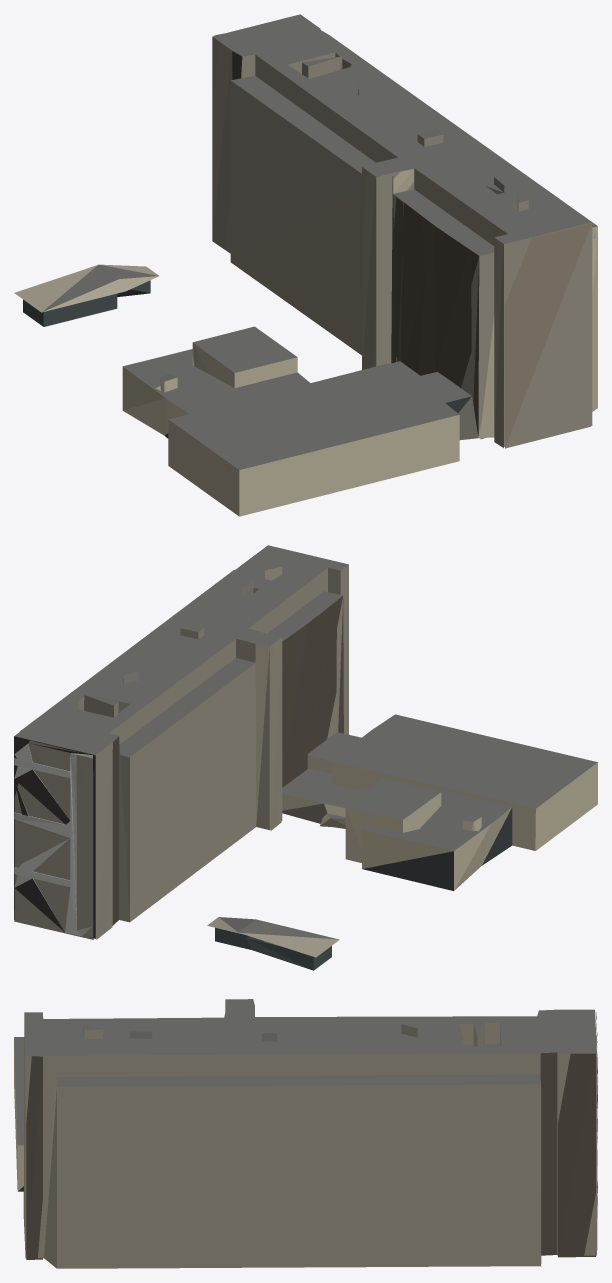
File: radion.lod2.glb
3 views of the same model, one above another, from view 1: azimuth 30°, elevation 25°; view 2: azimuth 150°, elevation 25°; view 3: azimuth 270°, elevation 25° (orthographic). The views are drawn at different scales.
Parts seen in each view (by area): view 1: lod2; view 2: lod2; view 3: lod2.
Boxes of the visible parts, bbox=[...] form: lod2: bbox=[14, 14, 597, 516]; lod2: bbox=[14, 545, 597, 970]; lod2: bbox=[14, 999, 597, 1268].
Size of the model in its own units: 80.66 by 43.17 by 107.
